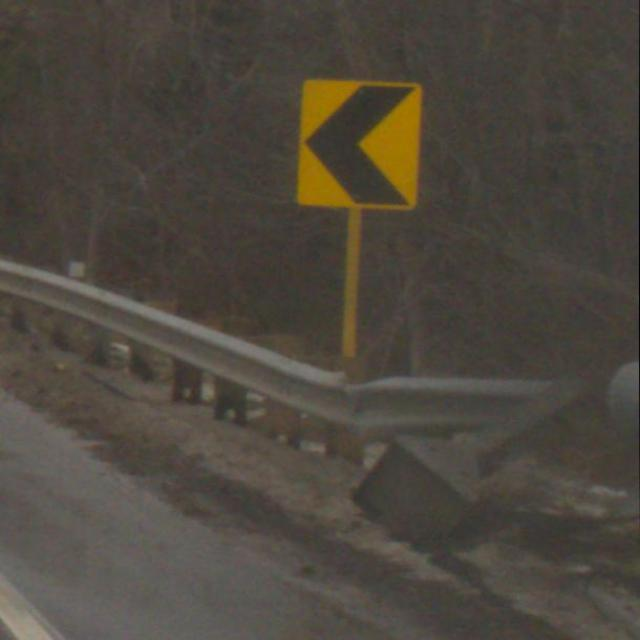Guard rail: (0, 255, 580, 467)
